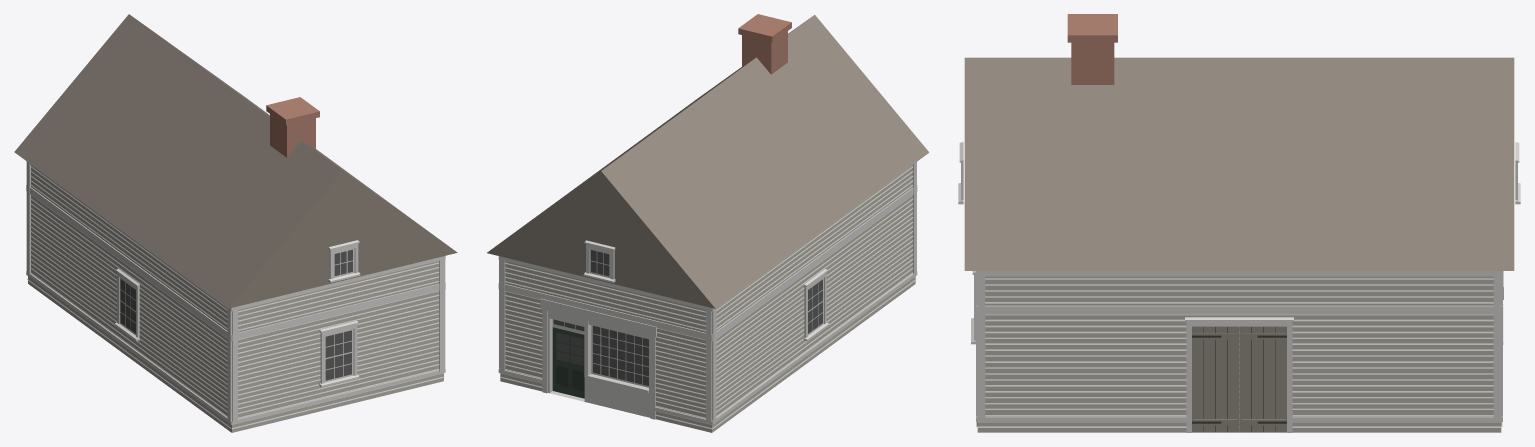
The model's file is recon_1835_core_c2_029__inferred_1835.glb.
3 views of the same model, side by side, from view 1: azimuth 30°, elevation 25°; view 2: azimuth 150°, elevation 25°; view 3: azimuth 270°, elevation 25° (orthographic). The views are drawn at different scales.
Visible parts, largest first — view 1: recon_1835_core_c2_029__inferred_1835; view 2: recon_1835_core_c2_029__inferred_1835; view 3: recon_1835_core_c2_029__inferred_1835.
Boxes of the visible parts, x1=… form: recon_1835_core_c2_029__inferred_1835: x1=14, y1=14, x2=457, y2=432; recon_1835_core_c2_029__inferred_1835: x1=487, y1=14, x2=929, y2=432; recon_1835_core_c2_029__inferred_1835: x1=958, y1=14, x2=1520, y2=432.
Bounding box in the file's own units: 6.61 × 7.31 × 10.92.
